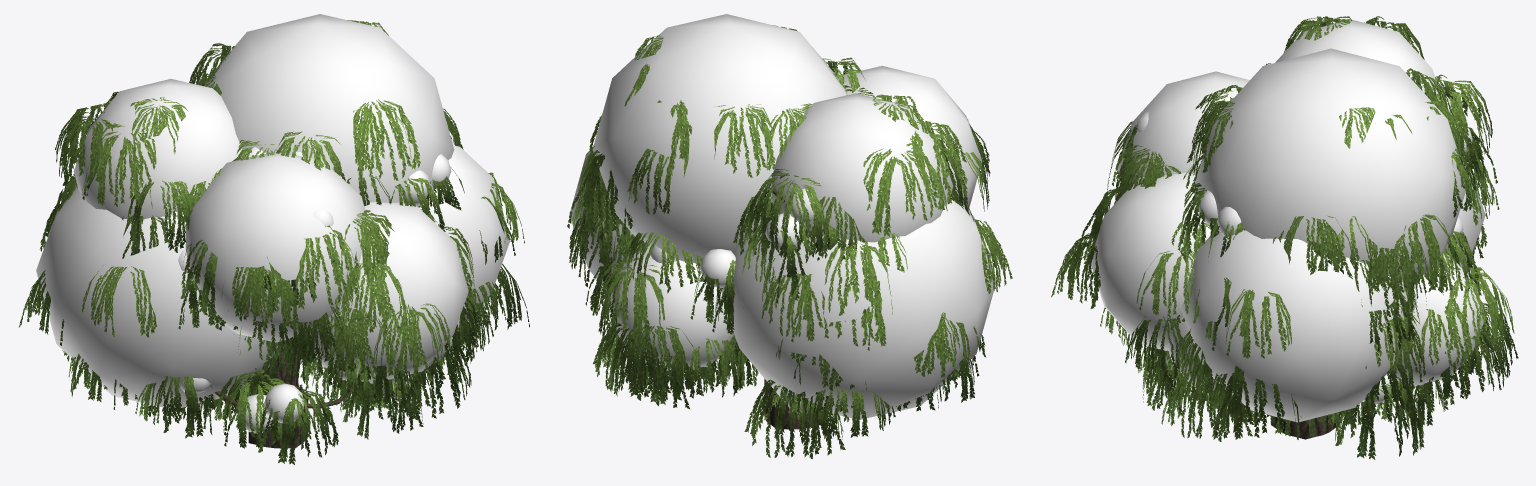
The model's file is willow.gltf.
3 renders of one model, left to right at view 1: azimuth 30°, elevation 25°; view 2: azimuth 150°, elevation 25°; view 3: azimuth 270°, elevation 25°, orthographic.
Parts seen in each view (by area): view 1: willow_shadow_LOD0, willow_leaves_LOD0, willow_trunk_LOD0; view 2: willow_shadow_LOD0, willow_leaves_LOD0, willow_trunk_LOD0; view 3: willow_shadow_LOD0, willow_leaves_LOD0, willow_trunk_LOD0.
Part boxes in pixels (<box>): willow_shadow_LOD0: <box>36,14,510,433</box>; willow_leaves_LOD0: <box>18,20,529,464</box>; willow_trunk_LOD0: <box>215,350,353,448</box>; willow_shadow_LOD0: <box>569,14,996,419</box>; willow_leaves_LOD0: <box>567,25,1012,459</box>; willow_trunk_LOD0: <box>764,188,822,429</box>; willow_shadow_LOD0: <box>1091,19,1485,422</box>; willow_leaves_LOD0: <box>1051,16,1518,459</box>; willow_trunk_LOD0: <box>1271,414,1336,439</box>.
Size of what is drawn, in the model's own units: 12.69 by 10.66 by 11.76.
3 materials, 2 textured.
